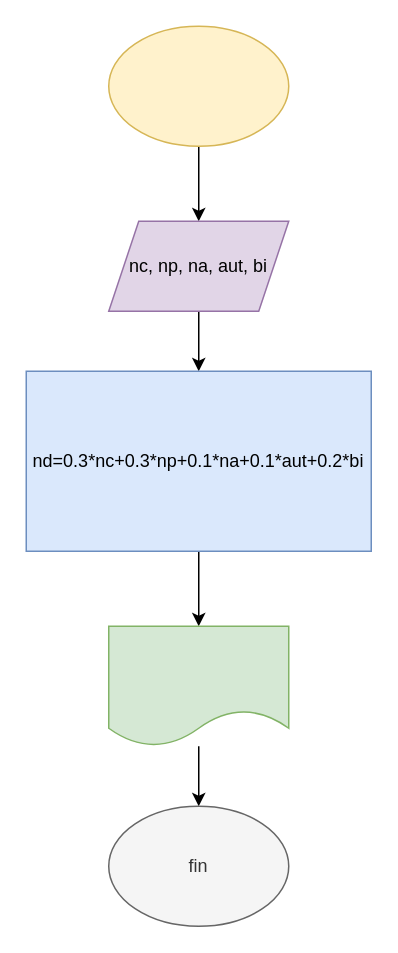
The diagram is 398 pixels wide and 953 high, and some of its shapes have lost their labels. Each missing label, with the box of its shape:
inicio: (107, 25, 289, 146)
nd: (107, 625, 289, 746)
